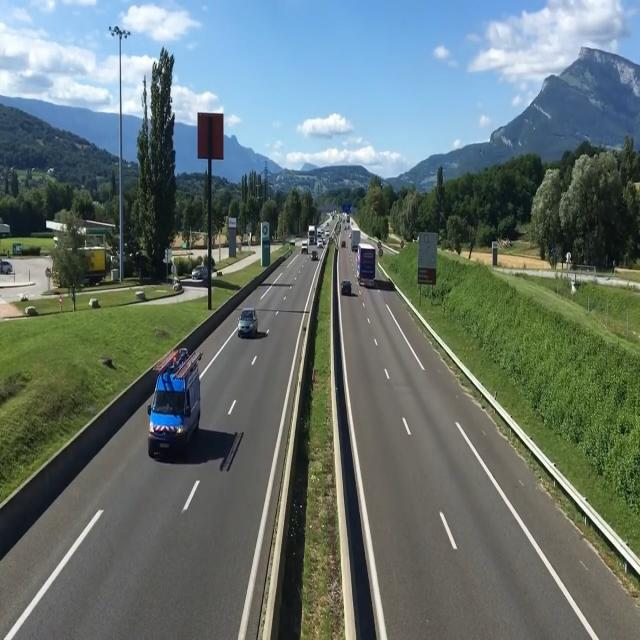car: (146, 331, 198, 464), (238, 306, 263, 341)
truck: (354, 237, 378, 300)
